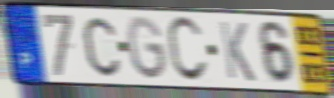6: (256, 19, 297, 87)
7: (41, 12, 75, 78)
C: (164, 14, 210, 85), (80, 15, 122, 79)
G: (125, 14, 170, 83)
K: (217, 19, 258, 85)
